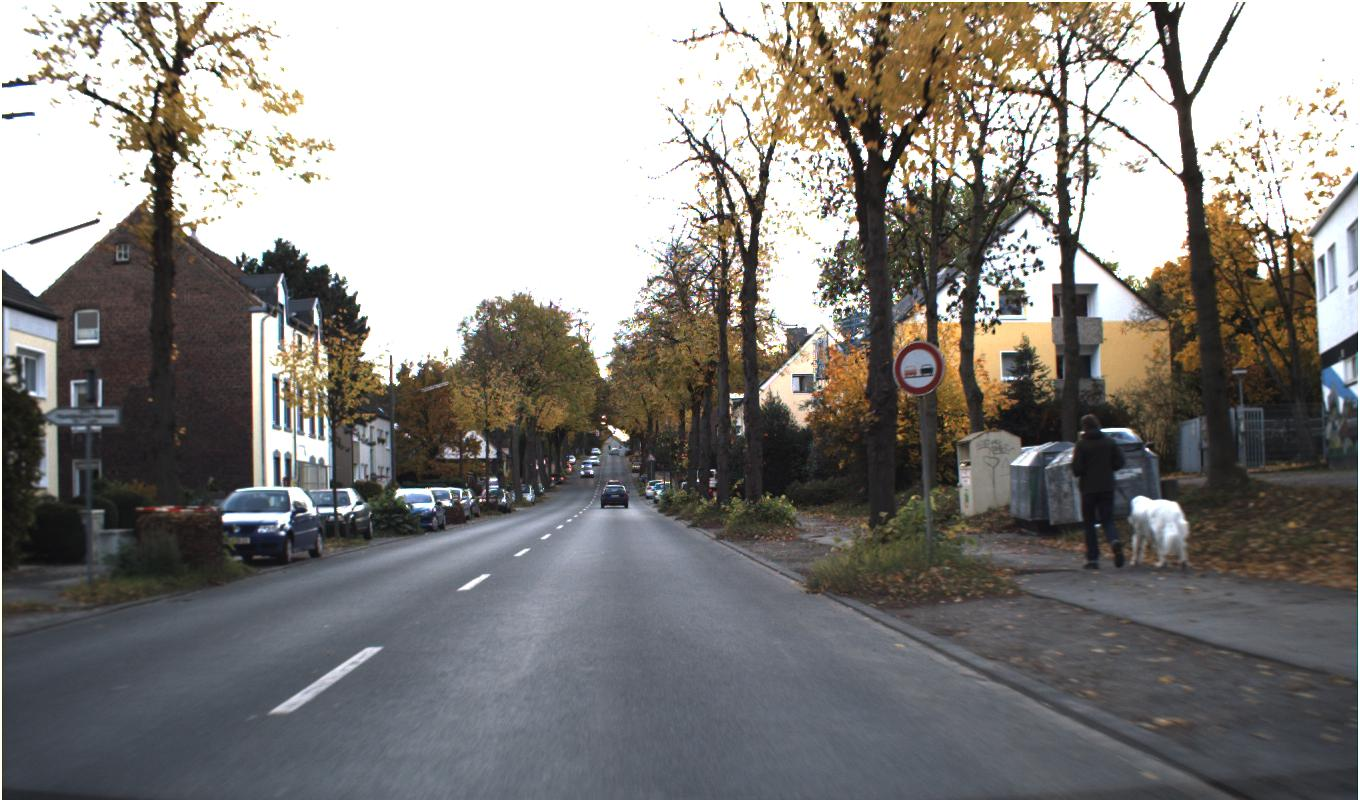prohibitory: (893, 341, 944, 396)
